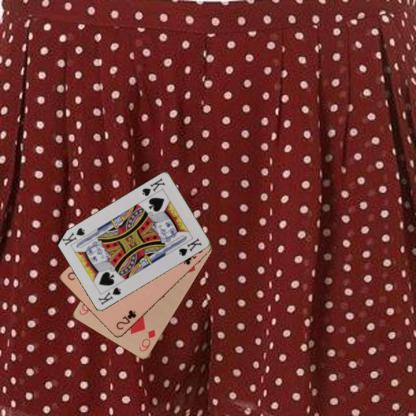2c: (113, 307, 138, 331)
6d: (136, 327, 158, 353)
Ks: (95, 284, 122, 306), (140, 176, 166, 198)
